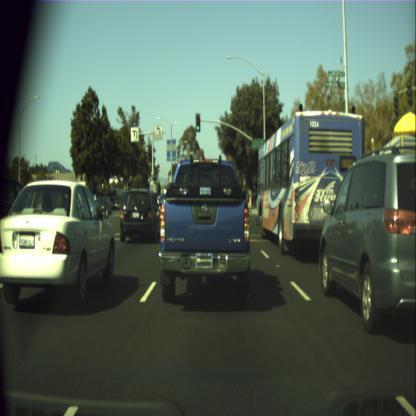Green: (195, 113, 200, 132)
RedLeft: (148, 145, 152, 161)
